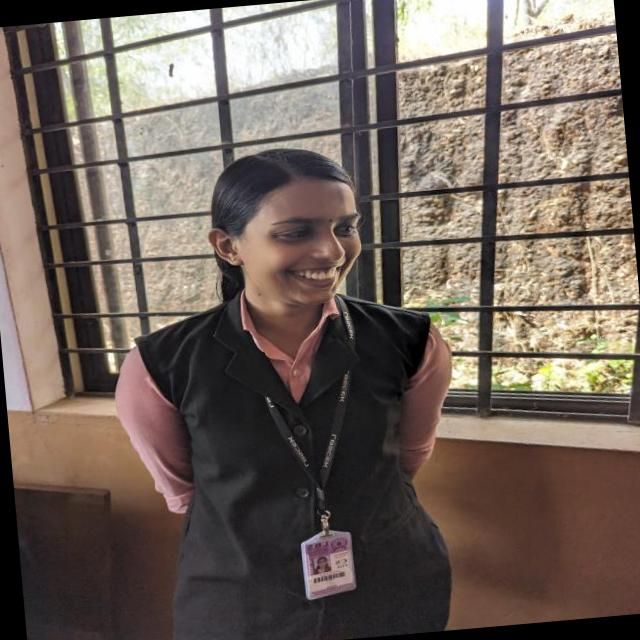id_card: (255, 328, 382, 604)
